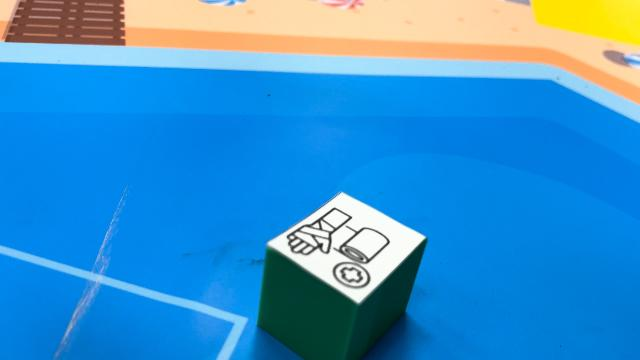bandage: (256, 190, 428, 358)
